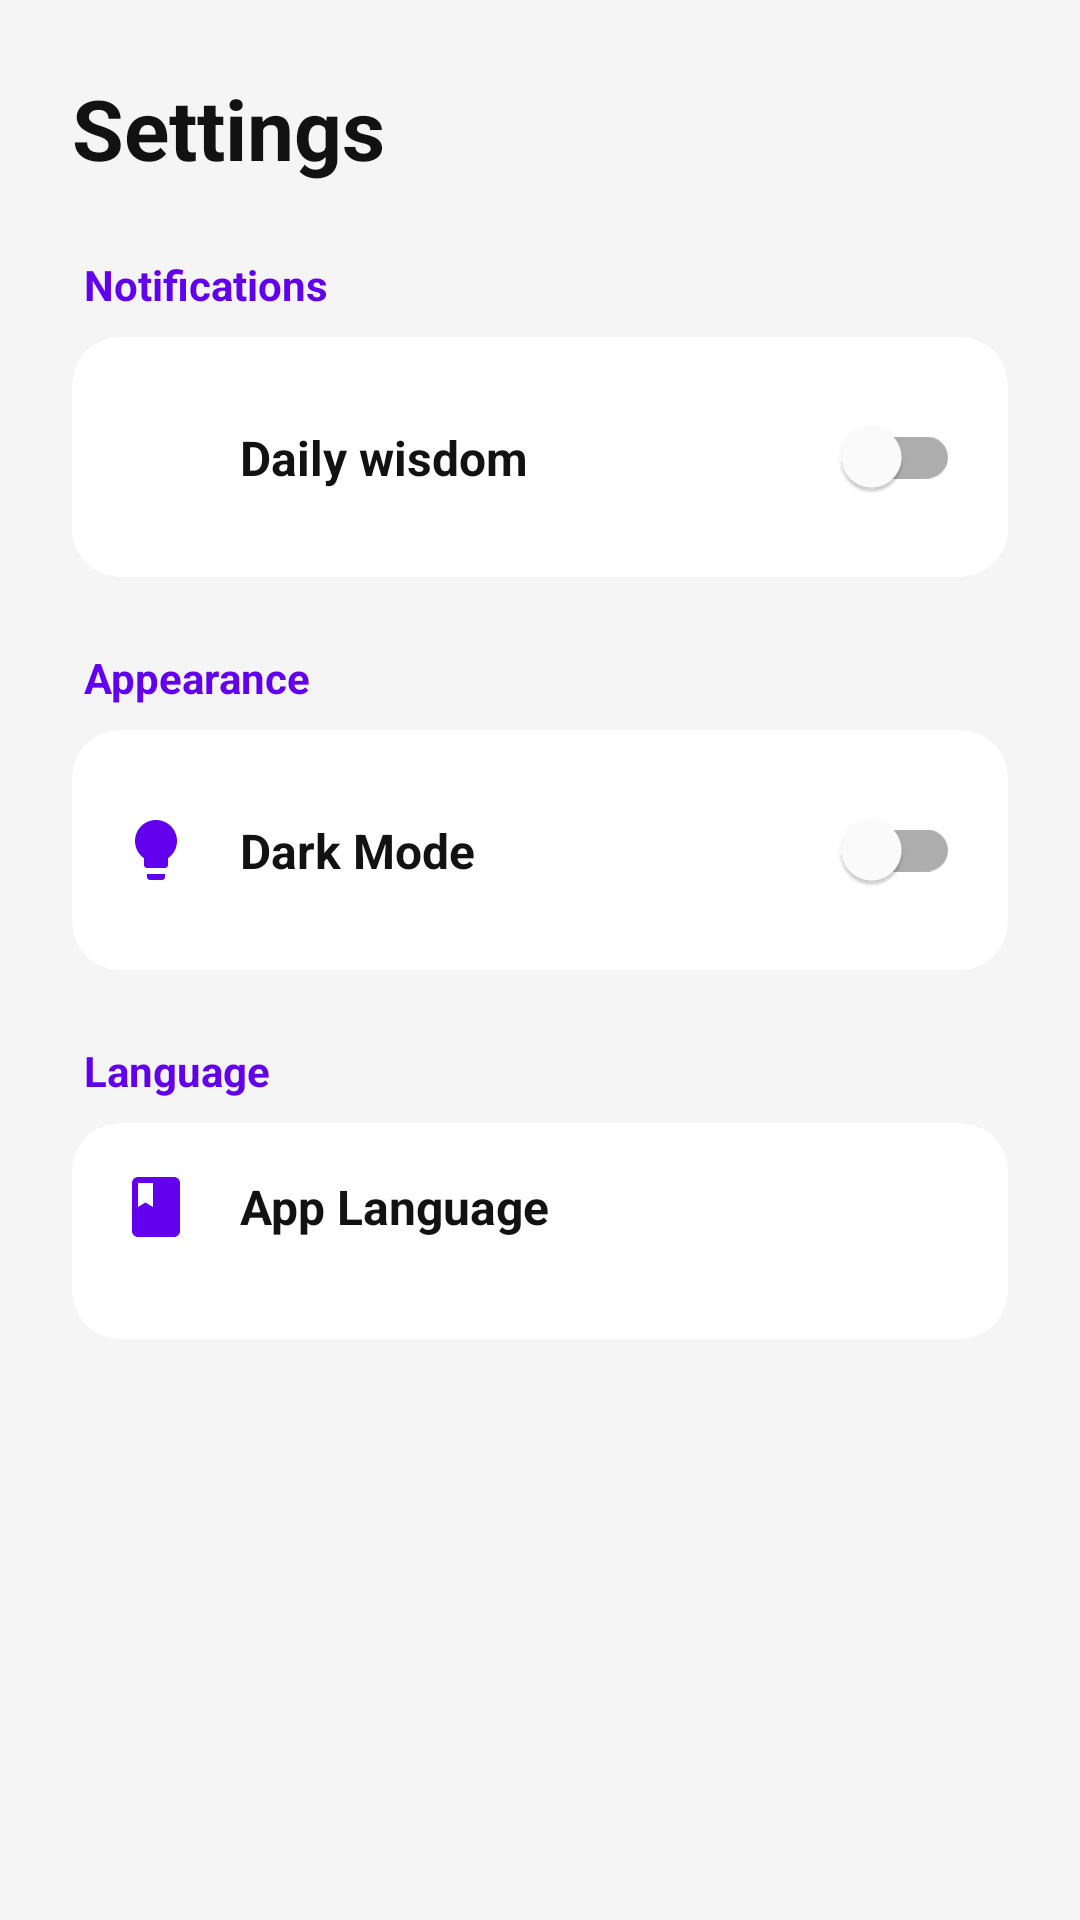

Point at icon controls on the screen. Image size 1080px x 1920px, points as (x,y).
books: (156,1207)
